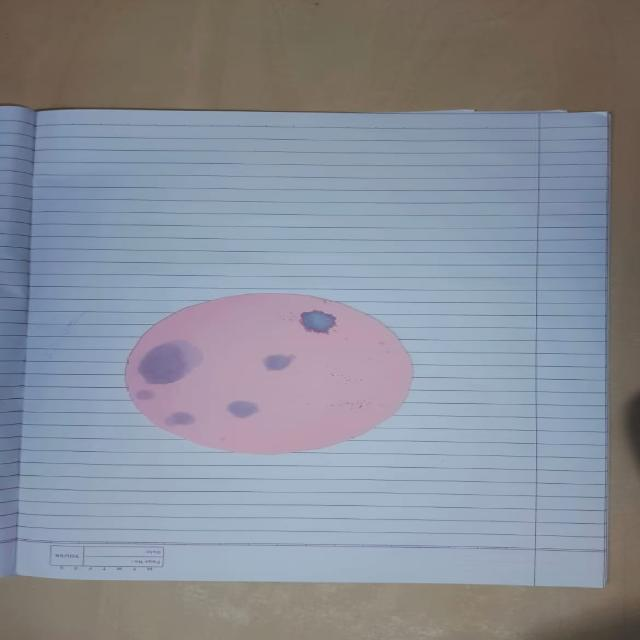BlueColor: (139, 340, 201, 385), (300, 310, 336, 334), (228, 401, 257, 418), (265, 354, 293, 370), (165, 412, 195, 426), (137, 390, 153, 401)
